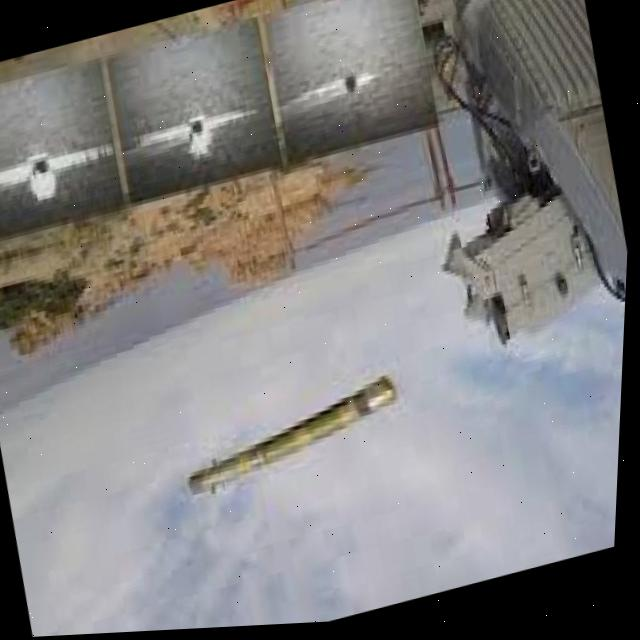missile: (174, 368, 420, 511)
